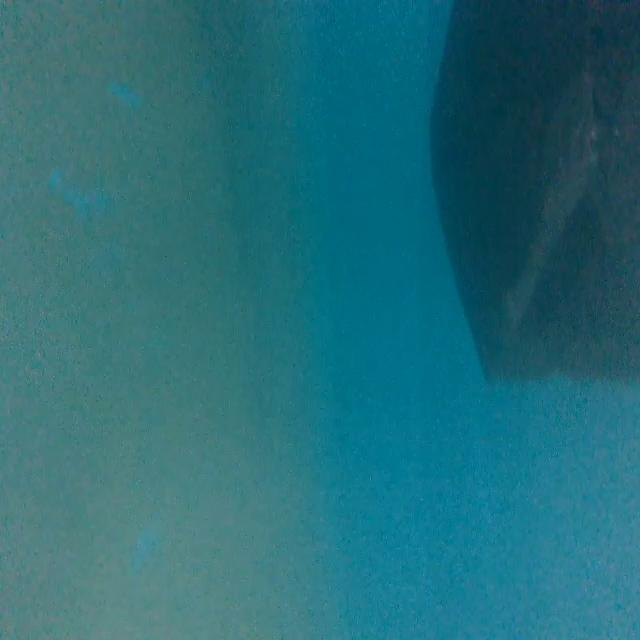plastic bags: (411, 0, 640, 387)
